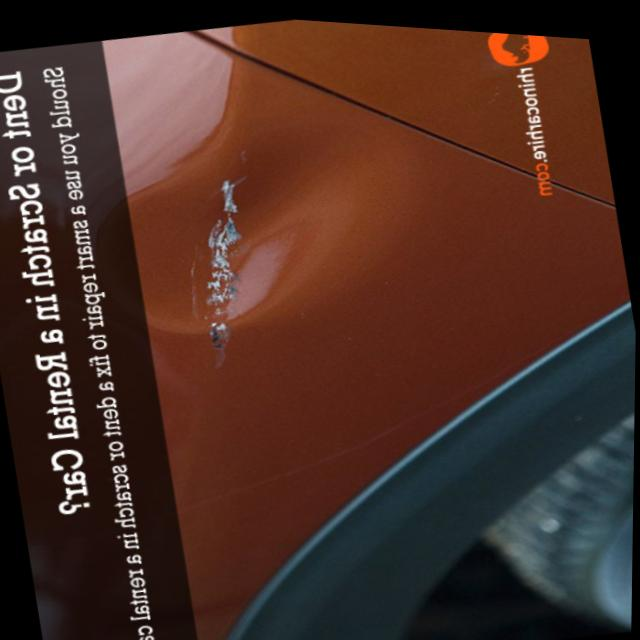Dent: (148, 120, 360, 399)
